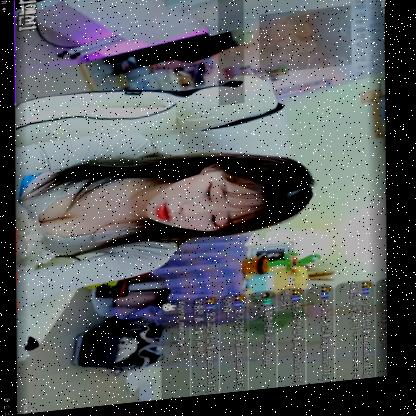streamer: (14, 120, 317, 308)
